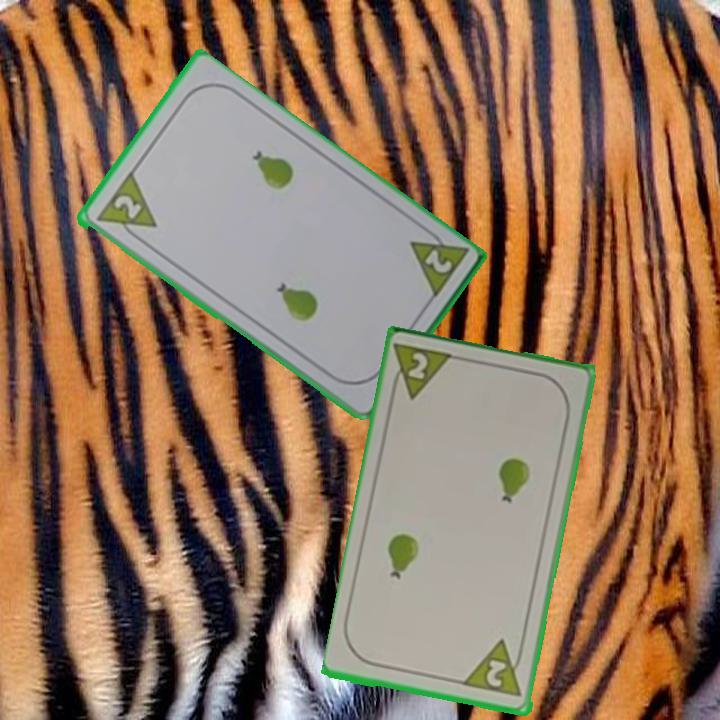2p: (387, 340, 458, 404), (462, 637, 528, 701), (109, 191, 144, 223), (420, 245, 455, 277)
